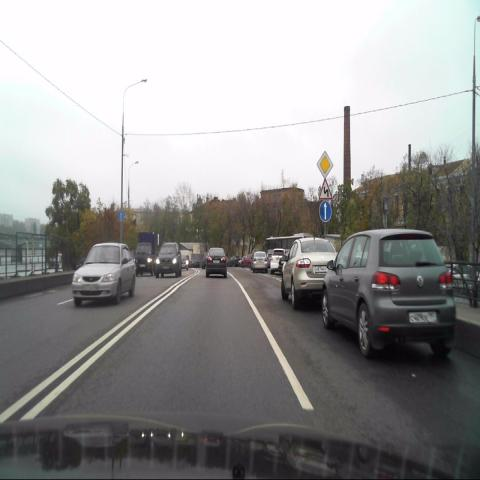1_12_2: (318, 179, 333, 199)
